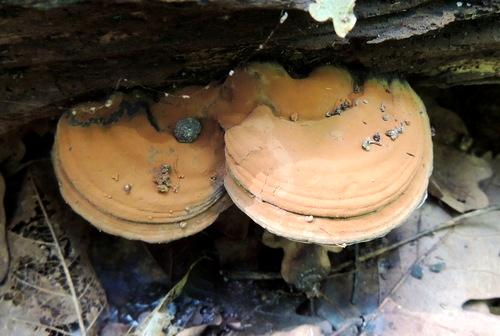Ganoderma - Fruit Body: (218, 63, 433, 249), (41, 82, 227, 253)
